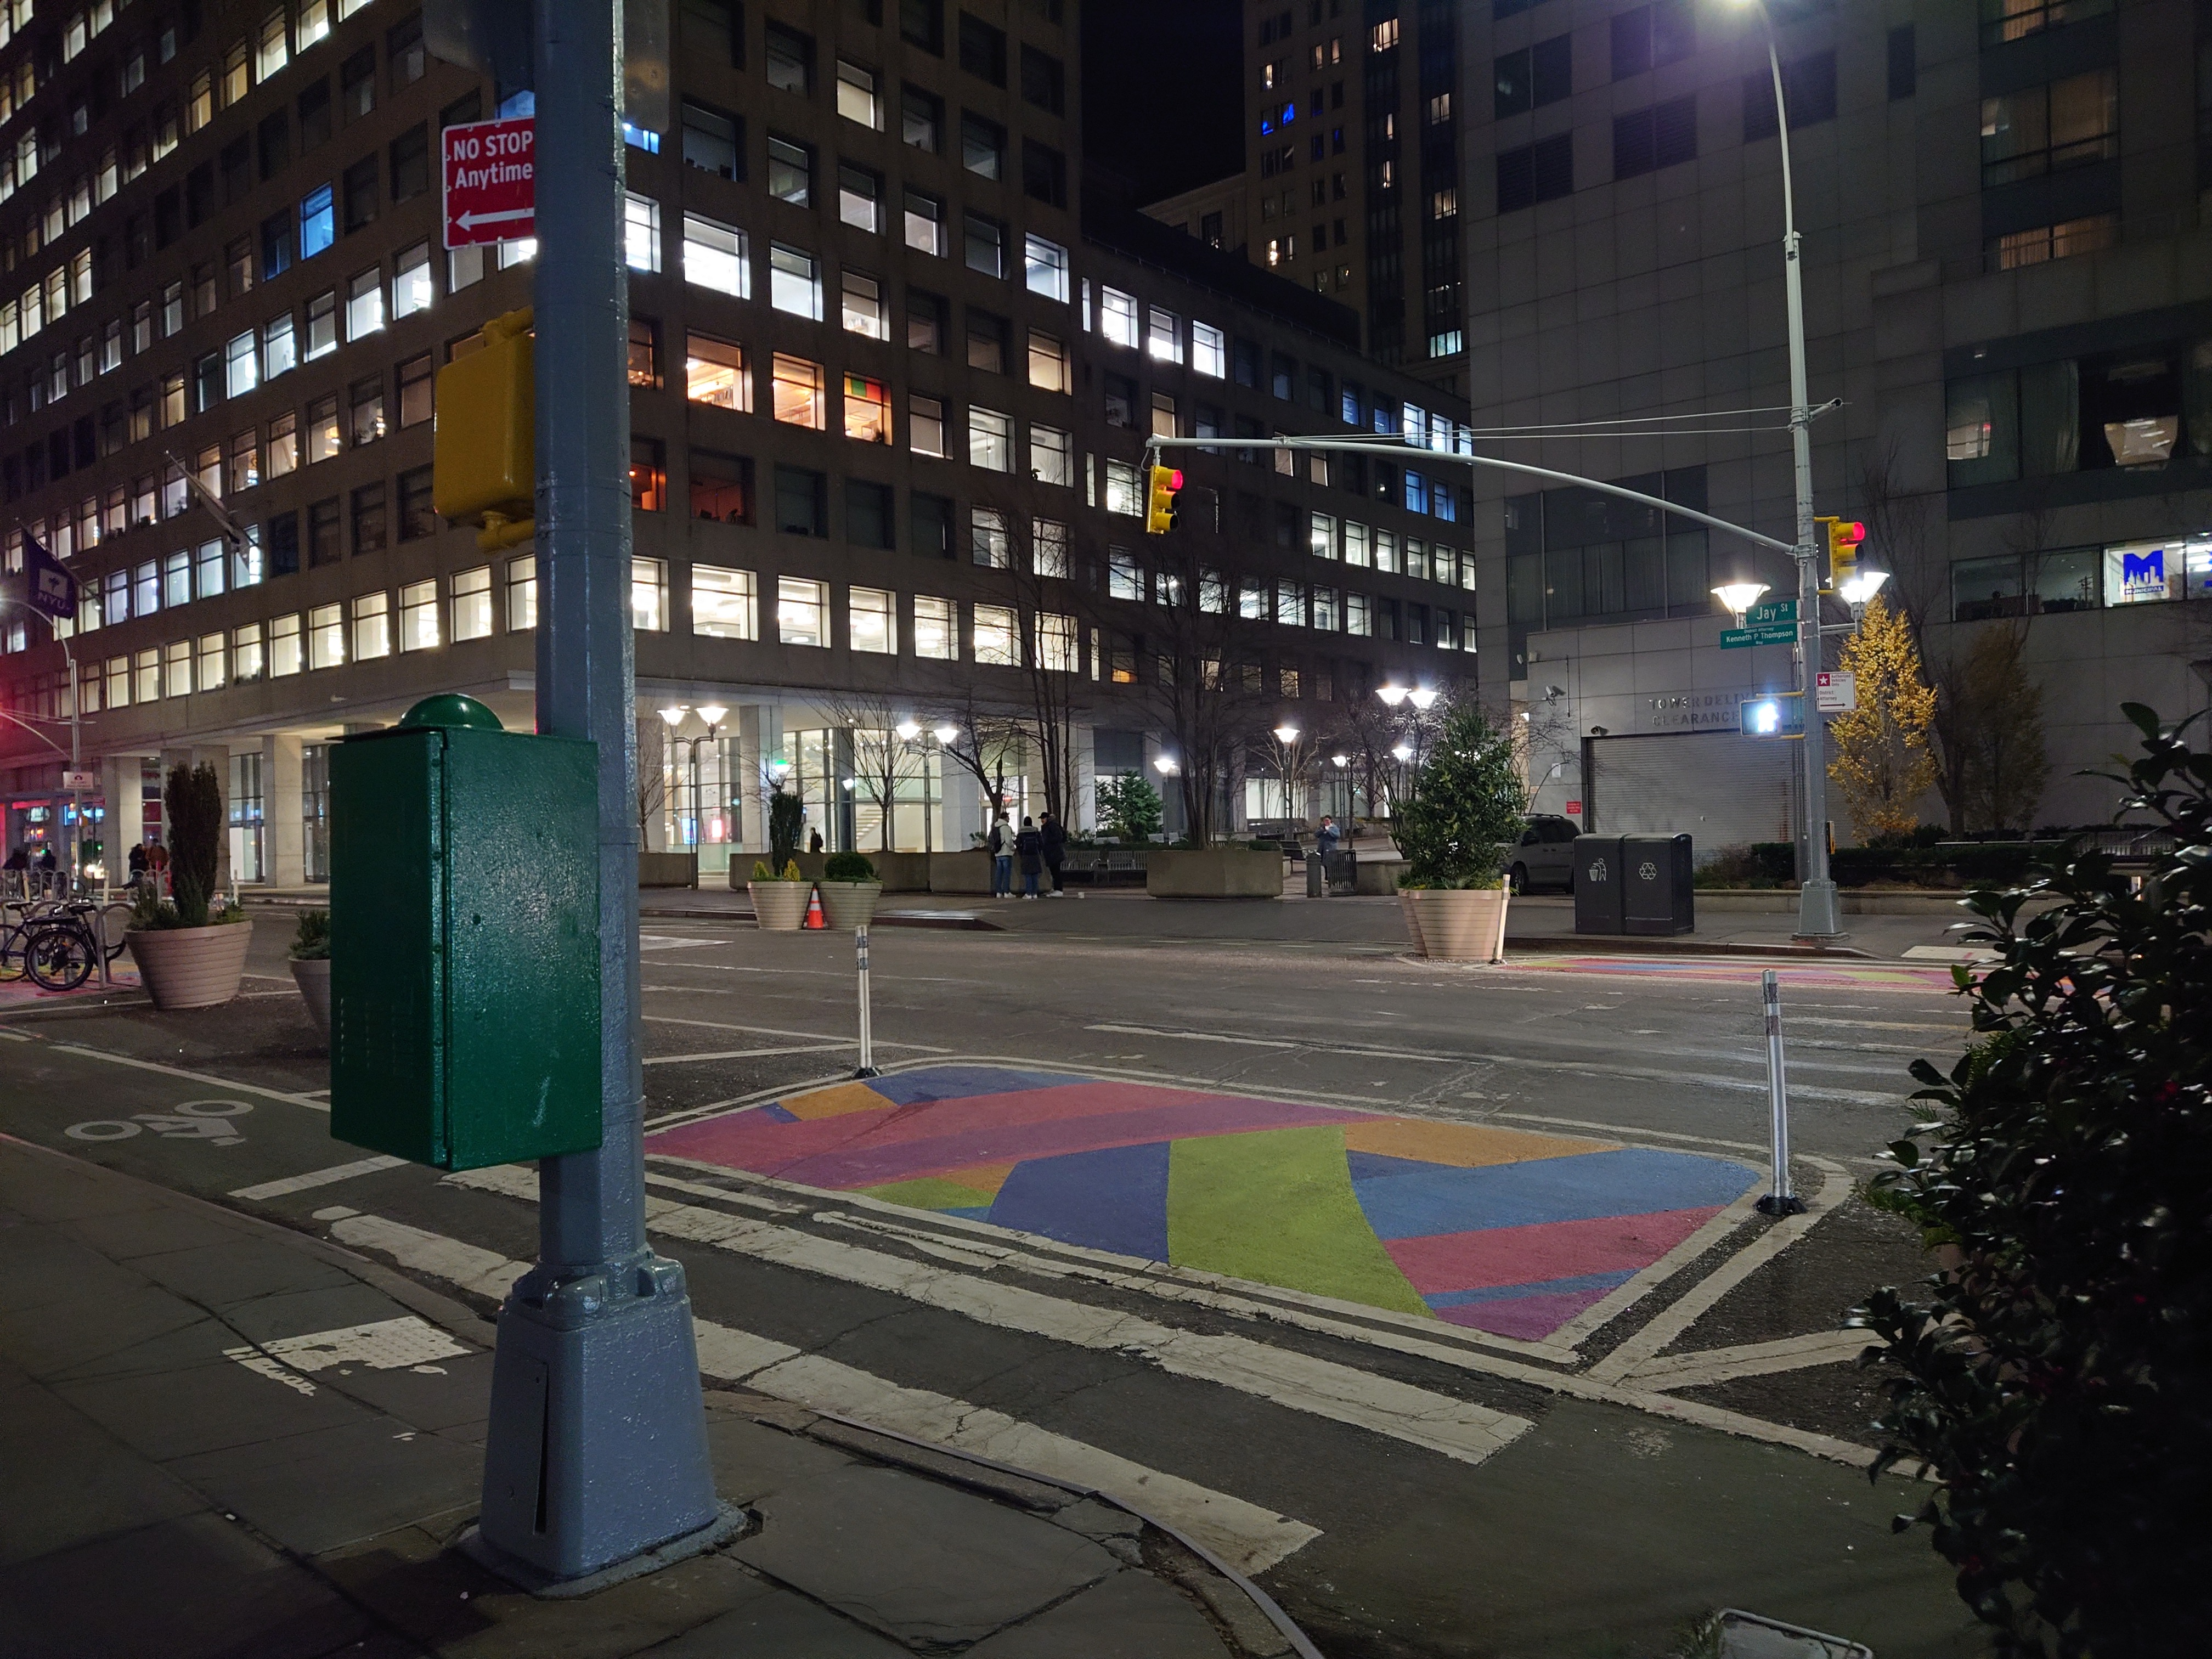person: (987, 812, 1018, 899), (1039, 812, 1066, 899), (1018, 816, 1043, 901)
